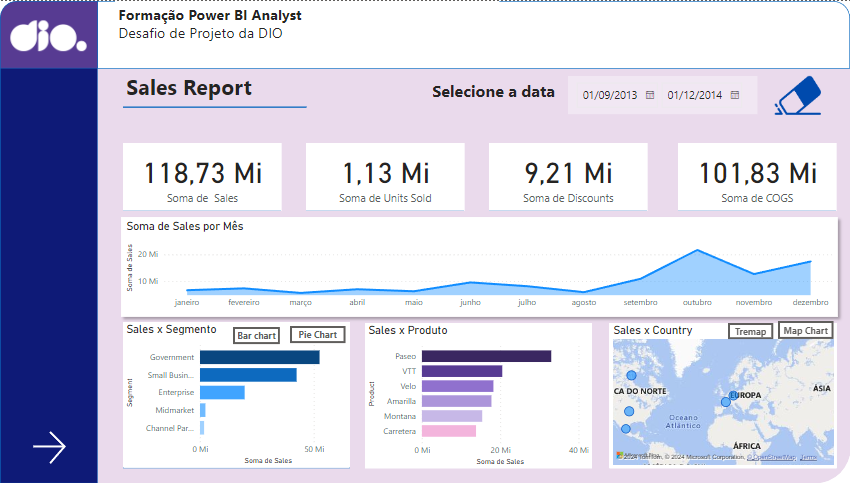

What the dashboard file says about the page in this screenshot:
{"tool":"powerbi","page":{"name":"Página 1","canvas":[1280,720],"ordinal":0},"visuals":[{"type":"shape","box":[0,0,1270.8,720.5],"z":0},{"type":"shape","box":[0,0,146,720.8],"z":0,"group":"g3"},{"type":"image","title":"clean","box":[1131.7,101.6,118.4,79.5],"z":0,"group":"g2"},{"type":"shape","box":[183.3,117.6,274.2,81.1],"z":0,"group":"g6"},{"type":"shape","box":[183.3,212.5,236.1,101],"z":0,"group":"g1"},{"type":"shape","box":[0,0,146,101],"z":1000,"group":"g3"},{"type":"shape","box":[145.3,0,1124.7,101.5],"z":1000},{"type":"textbox","box":[183.3,99.8,236.9,58.4],"z":1000,"group":"g6"},{"type":"slicer","fields":{"Values":["financials.Date"]},"box":[849.2,112.3,282.7,57.5],"z":1000,"group":"g2"},{"type":"shape","box":[456.7,212.5,236.1,101],"z":1000,"group":"g1"},{"type":"textbox","box":[172,0,574.3,76.2],"z":2000},{"type":"image","title":"logo_dio","box":[10.9,15.5,124.3,73],"z":2000,"group":"g3"},{"type":"textbox","box":[641,112.3,208.2,62.1],"z":2000,"group":"g2"},{"type":"shape","box":[730.1,212.5,236.1,101],"z":2000,"group":"g1"},{"type":"map","title":"Sales x Country ","fields":{"Category":["financials.Country"],"Size":["Sum(financials. Sales)"]},"box":[910.1,480.2,339.1,217.4],"z":2000,"group":"g4"},{"type":"donutChart","title":"  Sales x Segmento-pie","fields":{"Y":["Sum(financials. Sales)"],"Category":["financials.Segment"]},"box":[183.8,480,339.1,217.4],"z":2234,"group":"g5"},{"type":"clusteredBarChart","title":" Sales x Segmento ","fields":{"Y":["Sum(financials. Sales)"],"Category":["financials.Segment"]},"box":[183.8,480,339.1,217.4],"z":2242,"group":"g5"},{"type":"actionButton","title":"Botão- Pie","box":[433.9,486.2,83,25.5],"z":2250,"group":"g5"},{"type":"actionButton","title":"Botão- Bar","box":[348.4,487.7,70.2,25.5],"z":2500,"group":"g5"},{"type":"actionButton","box":[1150.5,109.2,82.3,60.6],"z":3000,"group":"g2"},{"type":"group","id":"g1","title":"Cartões","box":[183.3,212.5,1065.9,100.6],"z":3000},{"type":"shape","box":[1012.8,212.5,236.1,101],"z":3000,"group":"g1"},{"type":"actionButton","title":"Botão -map","box":[1162,477.5,83,26.8],"z":3250,"group":"g4"},{"type":"actionButton","title":"Botão- tremap","box":[1086.7,480.7,67.6,24.2],"z":3500,"group":"g4"},{"type":"shape","box":[172,313.1,1088.6,167.1],"z":4000},{"type":"shape","box":[910.1,480.2,339.1,217.4],"z":5000},{"type":"shape","box":[545.1,480.2,339.1,217.4],"z":6000},{"type":"shape","box":[183.3,480.2,339.1,217.4],"z":7000},{"type":"areaChart","fields":{"Category":["financials.Date.Variation.Hierarquia de datas.Mês"],"Y":["Sum(financials. Sales)"]},"box":[183.3,326.1,1065.9,142.8],"z":8000},{"type":"card","fields":{"Values":["Sum(financials. Sales)"]},"box":[183.3,212.5,236.9,100.6],"z":9000},{"type":"card","fields":{"Values":["Sum(financials.Units Sold)"]},"box":[457.5,212.5,236.9,100.6],"z":10000},{"type":"card","fields":{"Values":["Sum(financials.Discounts)"]},"box":[730,212.5,236.9,100.6],"z":11000},{"type":"card","fields":{"Values":["Sum(financials.COGS)"]},"box":[1012.3,212.5,236.9,100.6],"z":12000},{"type":"clusteredBarChart","title":"Sales x Produto","fields":{"Y":["Sum(financials. Sales)"],"Category":["financials.Product"]},"box":[545.1,480.2,339.1,217.4],"z":13000},{"type":"group","id":"g2","title":"filtro por data","box":[641,101.6,609.2,79.5],"z":14000},{"type":"group","id":"g3","title":"design 1","box":[0,0,145.3,720.6],"z":15000},{"type":"group","id":"g4","title":"Sales x pais","box":[907.7,477.5,341.4,220.1],"z":16000},{"type":"group","id":"g5","title":"Sales x segmento","box":[183.8,480,339.1,217.4],"z":17000},{"type":"group","id":"g6","title":"design 2","box":[183.3,99.8,274.2,99],"z":18000},{"type":"actionButton","box":[30.7,636.7,83.4,61.5],"z":19000}]}

Visuals, with their boxes on the page's 1280x720 design canvas (x1, y1, x2, y2). These are canvas units, not pixel positions in the 850x483 screenshot, which may show the page scaled, cropped or inside an application window:
shape: {"left": 0, "top": 0, "right": 1271, "bottom": 720}
shape: {"left": 0, "top": 0, "right": 146, "bottom": 721}
"clean" image: {"left": 1132, "top": 102, "right": 1250, "bottom": 181}
shape: {"left": 183, "top": 118, "right": 458, "bottom": 199}
shape: {"left": 183, "top": 212, "right": 419, "bottom": 314}
shape: {"left": 0, "top": 0, "right": 146, "bottom": 101}
shape: {"left": 145, "top": 0, "right": 1270, "bottom": 102}
textbox: {"left": 183, "top": 100, "right": 420, "bottom": 158}
slicer - financials.Date: {"left": 849, "top": 112, "right": 1132, "bottom": 170}
shape: {"left": 457, "top": 212, "right": 693, "bottom": 314}
textbox: {"left": 172, "top": 0, "right": 746, "bottom": 76}
"logo_dio" image: {"left": 11, "top": 16, "right": 135, "bottom": 88}
textbox: {"left": 641, "top": 112, "right": 849, "bottom": 174}
shape: {"left": 730, "top": 212, "right": 966, "bottom": 314}
"Sales x Country " map: {"left": 910, "top": 480, "right": 1249, "bottom": 698}
"  Sales x Segmento-pie" donutChart: {"left": 184, "top": 480, "right": 523, "bottom": 697}
" Sales x Segmento " clusteredBarChart: {"left": 184, "top": 480, "right": 523, "bottom": 697}
"Botão- Pie" actionButton: {"left": 434, "top": 486, "right": 517, "bottom": 512}
"Botão- Bar" actionButton: {"left": 348, "top": 488, "right": 419, "bottom": 513}
actionButton: {"left": 1150, "top": 109, "right": 1233, "bottom": 170}
"Cartões" group: {"left": 183, "top": 212, "right": 1249, "bottom": 313}
shape: {"left": 1013, "top": 212, "right": 1249, "bottom": 314}
"Botão -map" actionButton: {"left": 1162, "top": 478, "right": 1245, "bottom": 504}
"Botão- tremap" actionButton: {"left": 1087, "top": 481, "right": 1154, "bottom": 505}
shape: {"left": 172, "top": 313, "right": 1261, "bottom": 480}
shape: {"left": 910, "top": 480, "right": 1249, "bottom": 698}
shape: {"left": 545, "top": 480, "right": 884, "bottom": 698}
shape: {"left": 183, "top": 480, "right": 522, "bottom": 698}
areaChart - financials.Date.Variation.Hierarquia de datas.Mês x Sum(financials. Sales): {"left": 183, "top": 326, "right": 1249, "bottom": 469}
card - Sum(financials. Sales): {"left": 183, "top": 212, "right": 420, "bottom": 313}
card - Sum(financials.Units Sold): {"left": 458, "top": 212, "right": 694, "bottom": 313}
card - Sum(financials.Discounts): {"left": 730, "top": 212, "right": 967, "bottom": 313}
card - Sum(financials.COGS): {"left": 1012, "top": 212, "right": 1249, "bottom": 313}
"Sales x Produto" clusteredBarChart: {"left": 545, "top": 480, "right": 884, "bottom": 698}
"filtro por data" group: {"left": 641, "top": 102, "right": 1250, "bottom": 181}
"design 1" group: {"left": 0, "top": 0, "right": 145, "bottom": 721}
"Sales x pais" group: {"left": 908, "top": 478, "right": 1249, "bottom": 698}
"Sales x segmento" group: {"left": 184, "top": 480, "right": 523, "bottom": 697}
"design 2" group: {"left": 183, "top": 100, "right": 458, "bottom": 199}
actionButton: {"left": 31, "top": 637, "right": 114, "bottom": 698}
